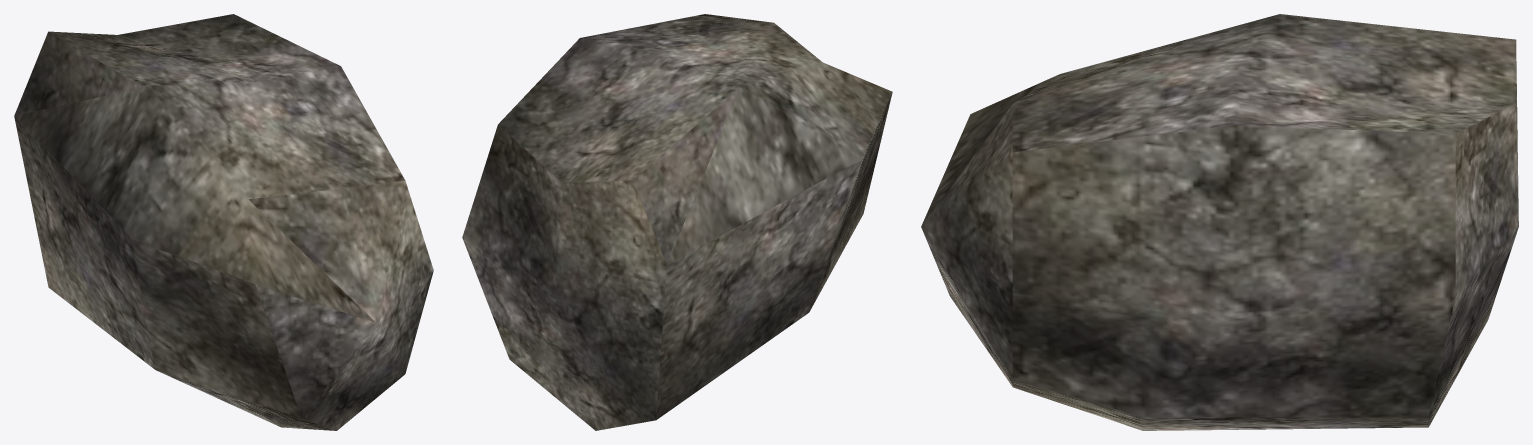
The picture shows the model from 3 angles, left to right: view 1: azimuth 30°, elevation 25°; view 2: azimuth 150°, elevation 25°; view 3: azimuth 270°, elevation 25°; orthographic projection. The views are drawn at different scales.
Parts seen in each view (by area): view 1: model_Object24; view 2: model_Object24; view 3: model_Object24.
Boxes of the visible parts, box(x1,y1,x2,y2) form: model_Object24: box(14, 14, 433, 430); model_Object24: box(462, 14, 892, 430); model_Object24: box(921, 14, 1518, 430).
Bounding box in the file's own units: 1.34 × 1.39 × 2.02.
1 material, 1 textured.
